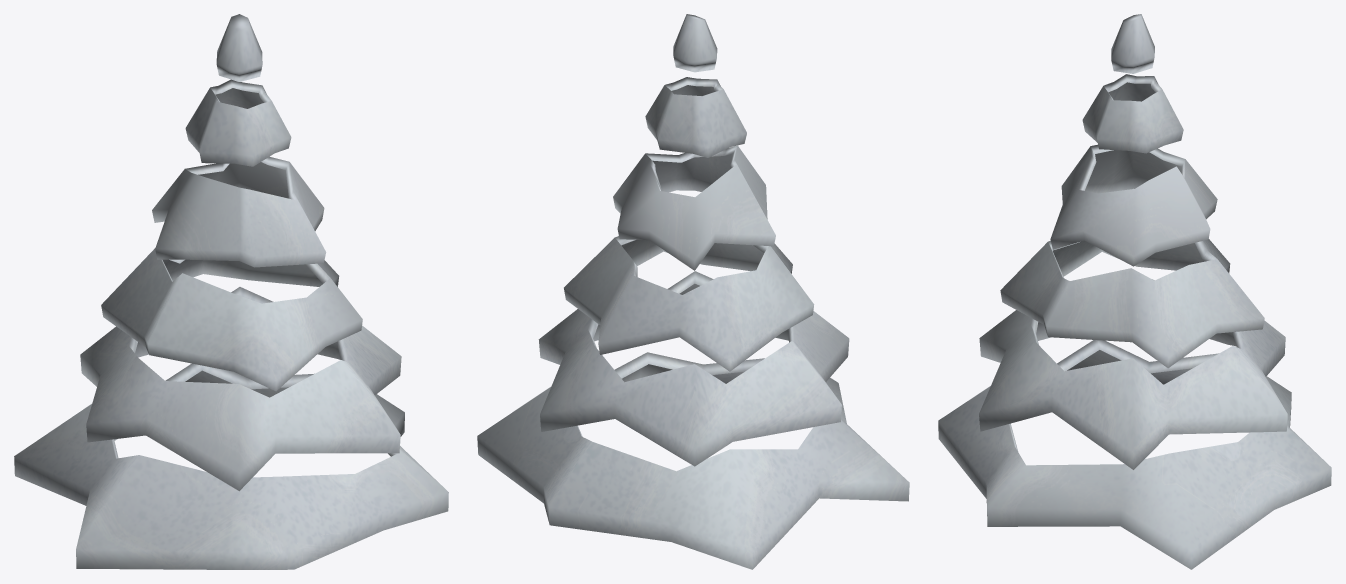
File: PineTree_3_Snow.fbx
3 renders of one model, left to right at view 1: azimuth 30°, elevation 25°; view 2: azimuth 150°, elevation 25°; view 3: azimuth 270°, elevation 25°, orthographic. The views are drawn at different scales.
Visible parts, largest first — view 1: PineTree_3_Snow_LOD0; view 2: PineTree_3_Snow_LOD0; view 3: PineTree_3_Snow_LOD0.
Part boxes in pixels (left/top/right/bottom): PineTree_3_Snow_LOD0: left=14, top=14, right=448, bottom=569; PineTree_3_Snow_LOD0: left=477, top=14, right=909, bottom=569; PineTree_3_Snow_LOD0: left=938, top=14, right=1331, bottom=569.
Size of what is drawn, in the model's own units: 446 by 530 by 408.
